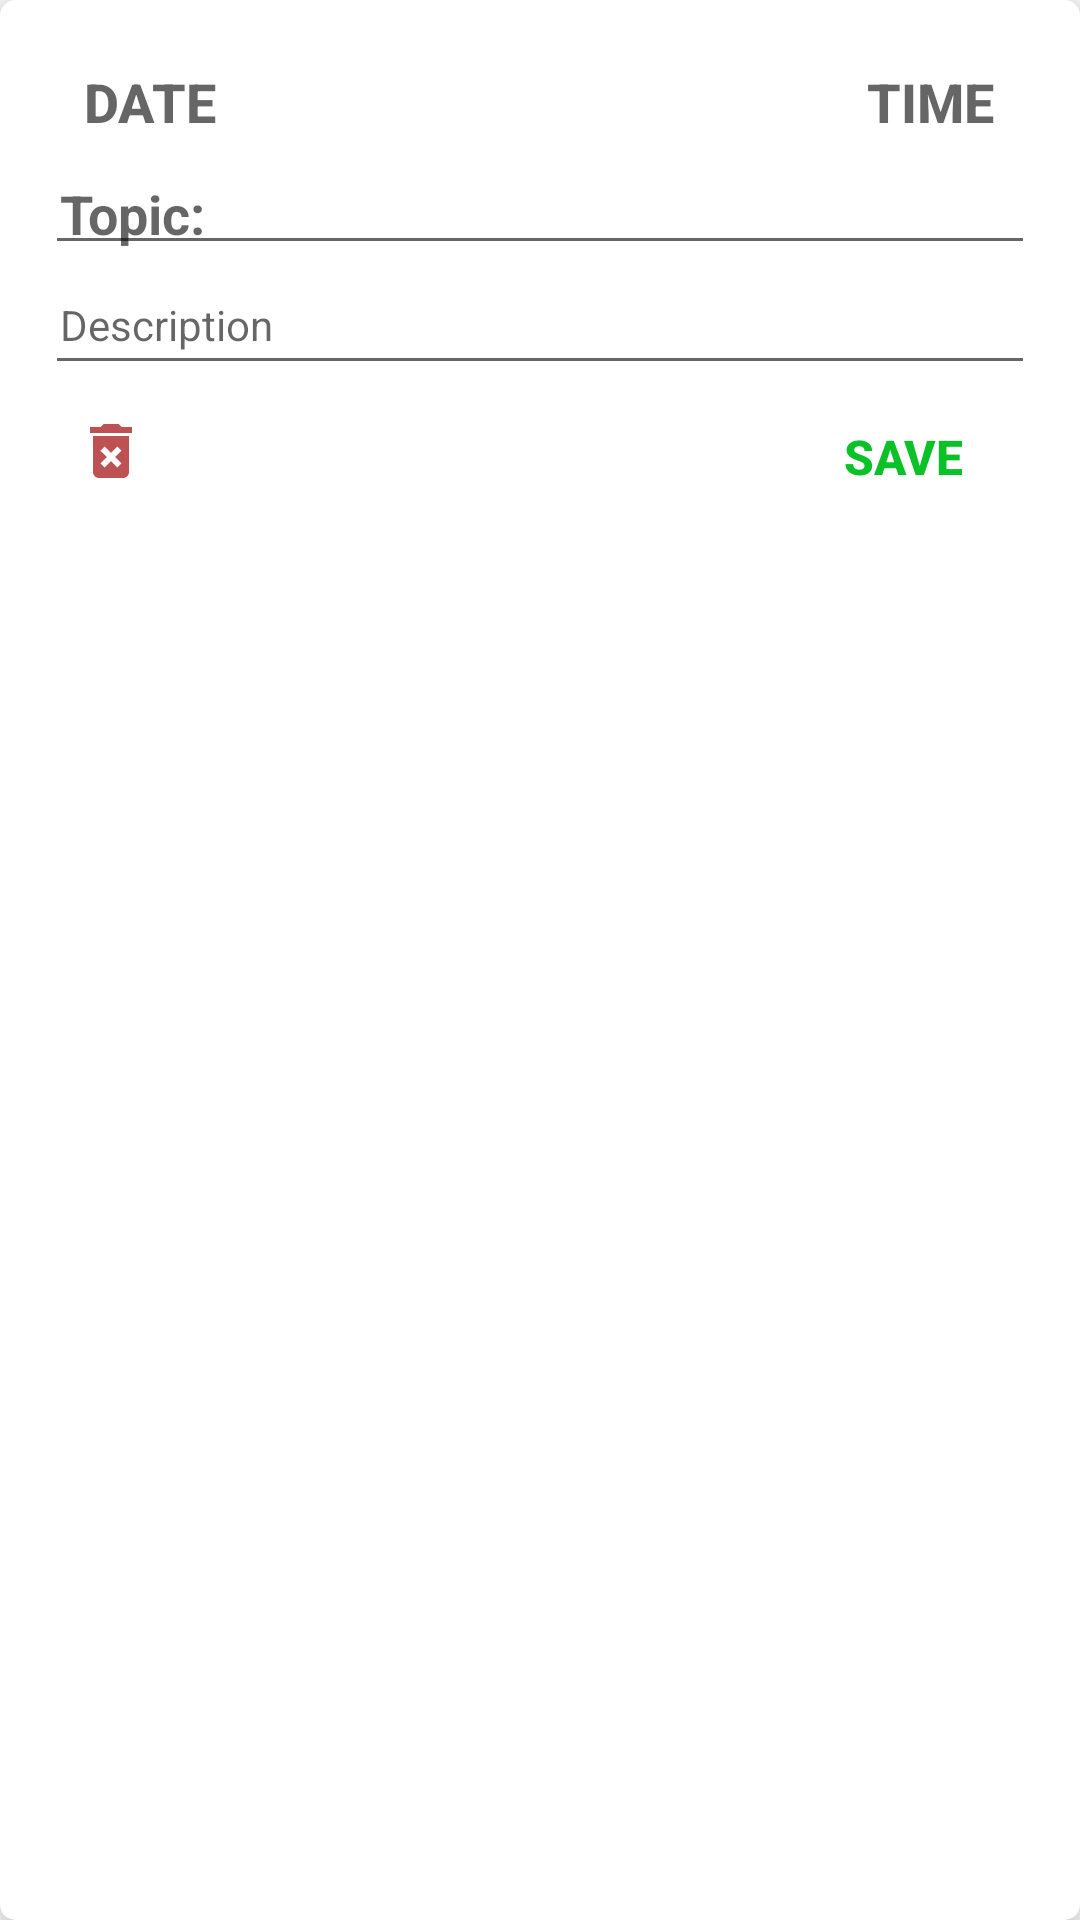

Point at icon controls on the screen. Image size 1080px x 1920px, points as [x,y].
delete task: [111,451]
